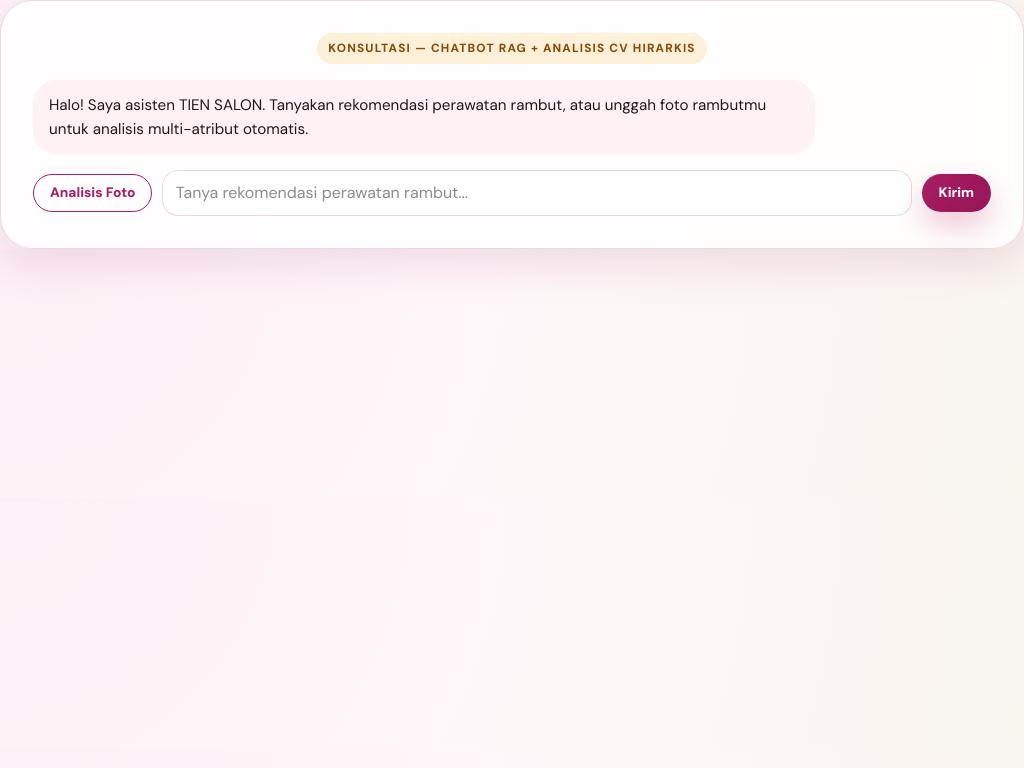
it: ConsultChat › mempertahankan pesan kesalahan Waktu tunggu habis
Type "Pertanyaan gagal" into the field.
click(537, 193); type("Pertanyaan gagal")  # box [162, 170, 912, 216]
Then press Enter
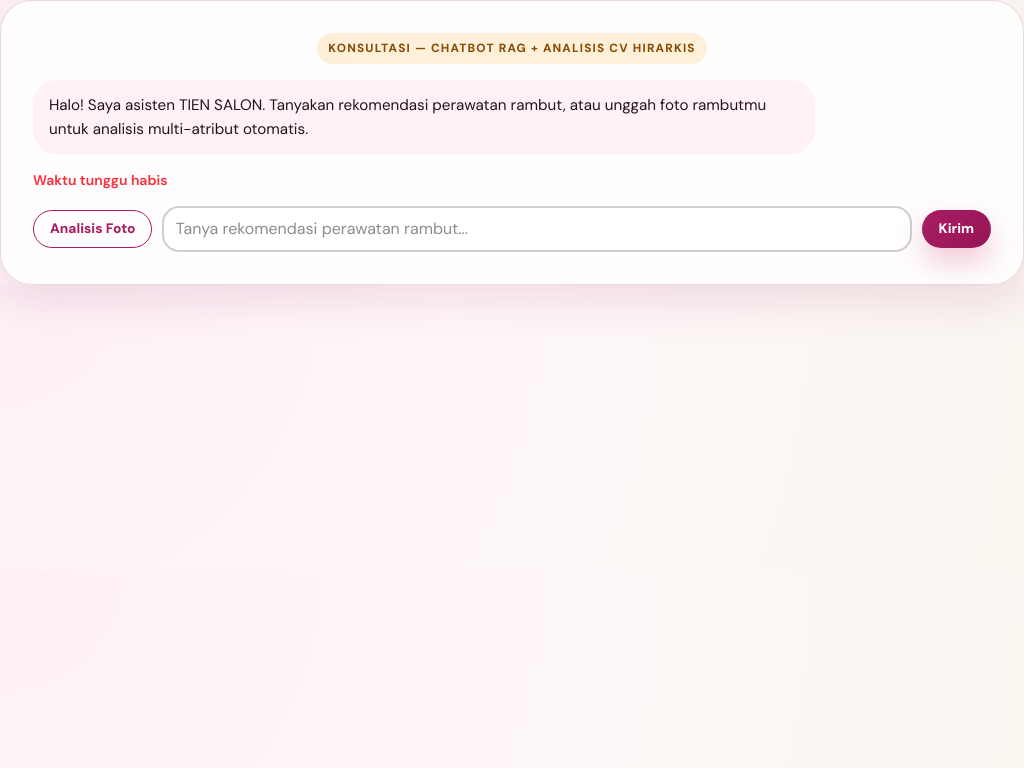
Check: the field is enabled, box [162, 206, 912, 252]
Check: the text "Waktu tunggu habis" is shown, box [33, 171, 168, 189]
